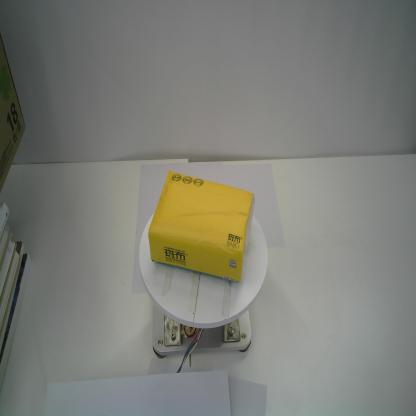Tissue: (147, 169, 256, 286)
